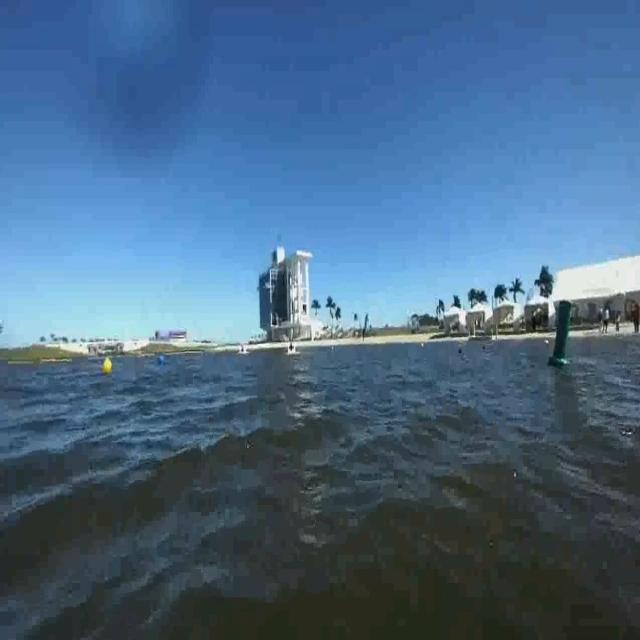blue-buoy: (157, 352, 166, 364)
green-column-buoy: (549, 300, 574, 368)
yellow-buoy: (102, 355, 114, 375)
